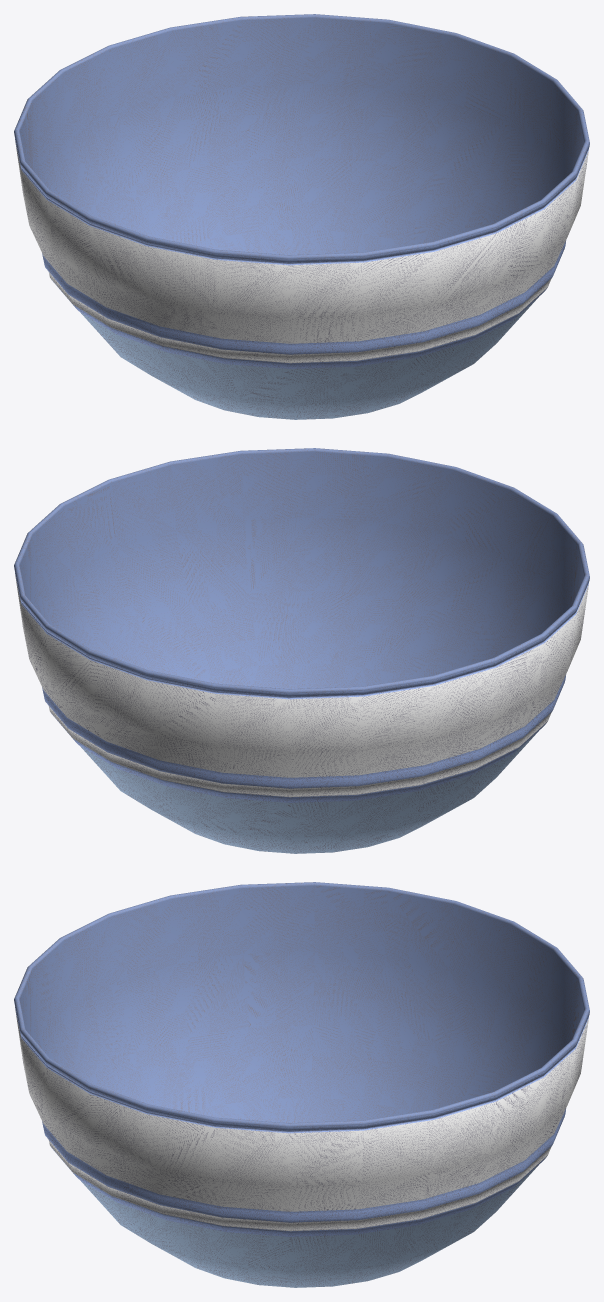
3 renders of one model, top to bottom at view 1: azimuth 30°, elevation 25°; view 2: azimuth 150°, elevation 25°; view 3: azimuth 270°, elevation 25°, orthographic.
Parts seen in each view (by area): view 1: SketchUp (×8); view 2: SketchUp (×8); view 3: SketchUp (×8).
Part boxes in pixels (x1=…): SketchUp (×8): x1=14, y1=14, x2=589, y2=419; SketchUp (×8): x1=14, y1=448, x2=589, y2=853; SketchUp (×8): x1=14, y1=882, x2=589, y2=1287.
Size of the model in its own units: 237 by 237 by 116.
